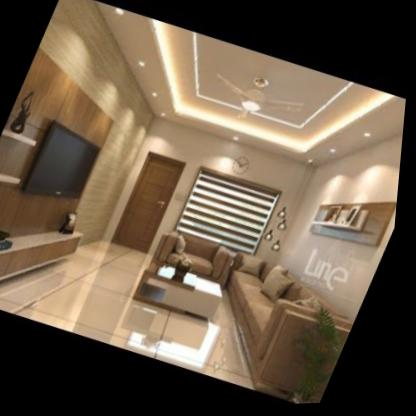Ceramic floor: (0, 243, 259, 391)
